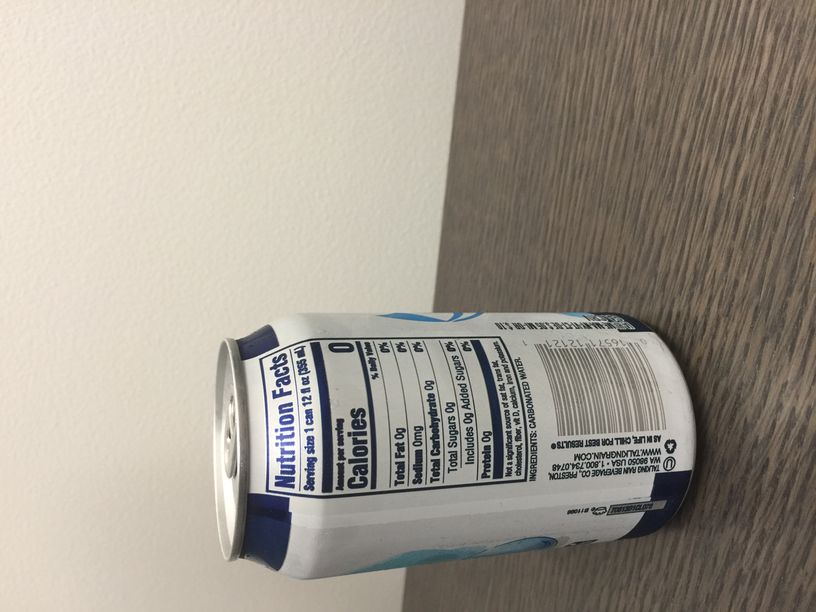competitor_02: (212, 312, 696, 581)
